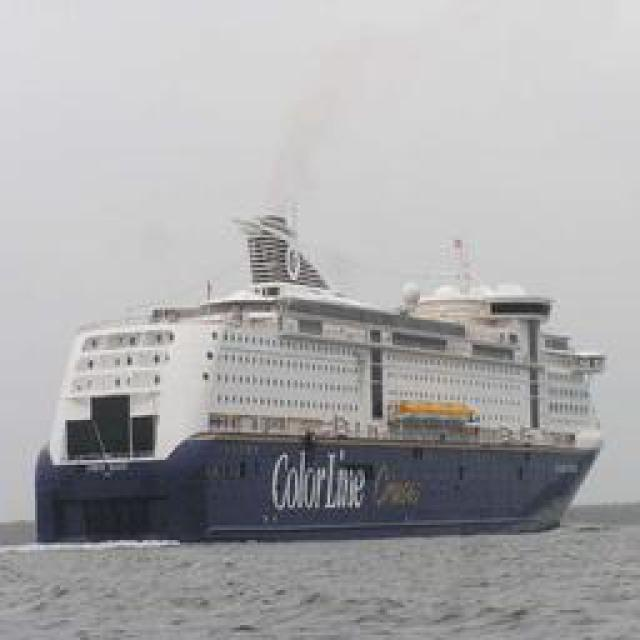Ship: (39, 202, 599, 540)
